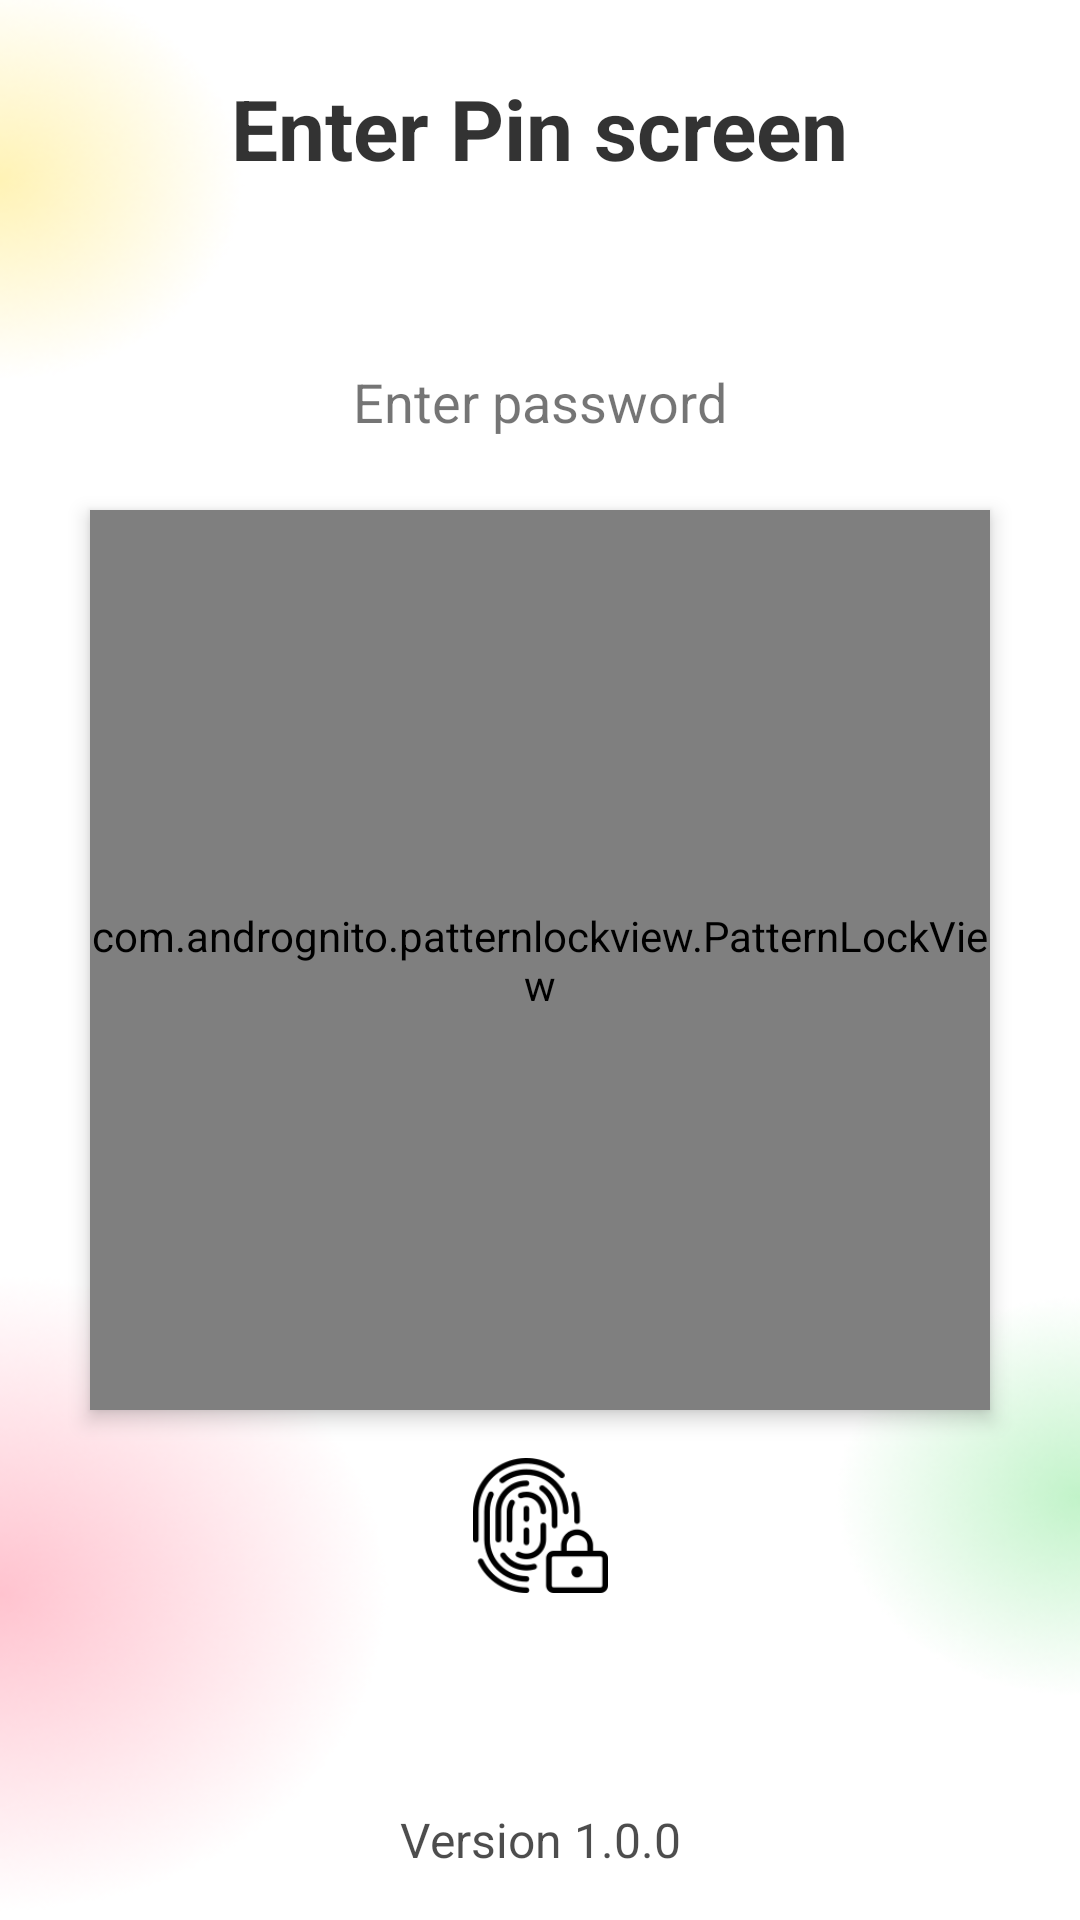

Locate icon controls on the screen. Image size 1080px x 1920px, boxes as (x1,y1,x2,y2).
biometric: (473,1458,608,1593)
